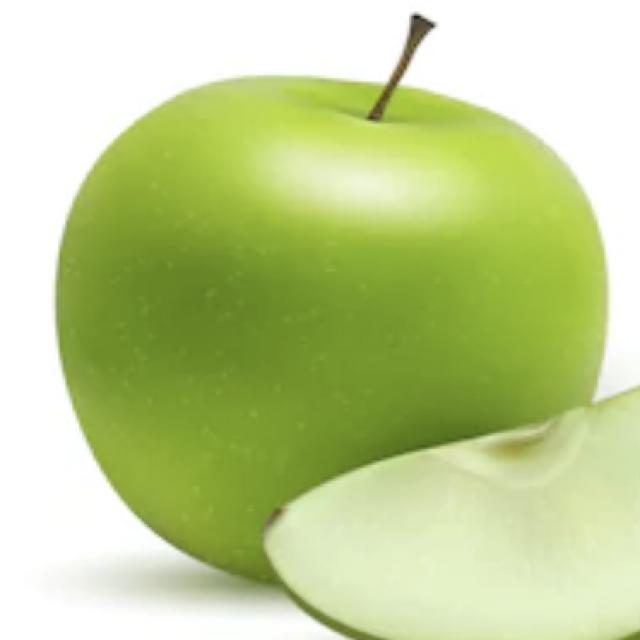Fresh Apple: (57, 70, 607, 606)
Rotten: (252, 384, 640, 640)
